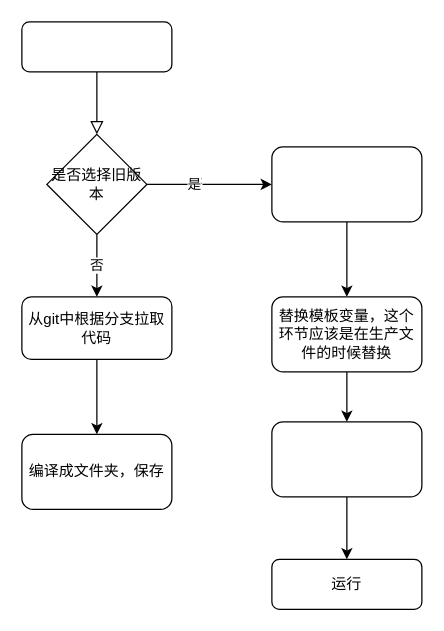
The diagram is 444 pixels wide and 631 high, and some of its shapes have lost their labels. The centre of each missing label's shape, as x and y in pixels:
"执行前置脚本，检查环境自动安装环境，创建目录，下载解压文件到指定目录" belongs at (x=346, y=184).
"点击发布" belongs at (x=96, y=46).
"调用启动脚本，run.sh" belongs at (x=346, y=459).
